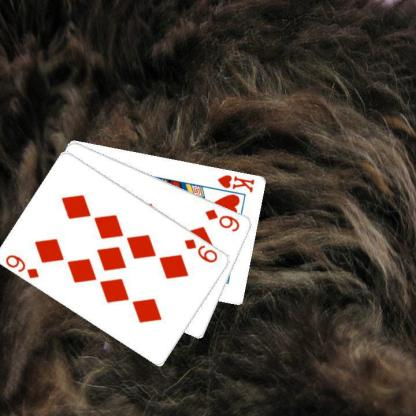6D: (203, 206, 241, 233)
9D: (182, 236, 220, 264), (3, 252, 40, 280)
KH: (215, 172, 256, 194)
